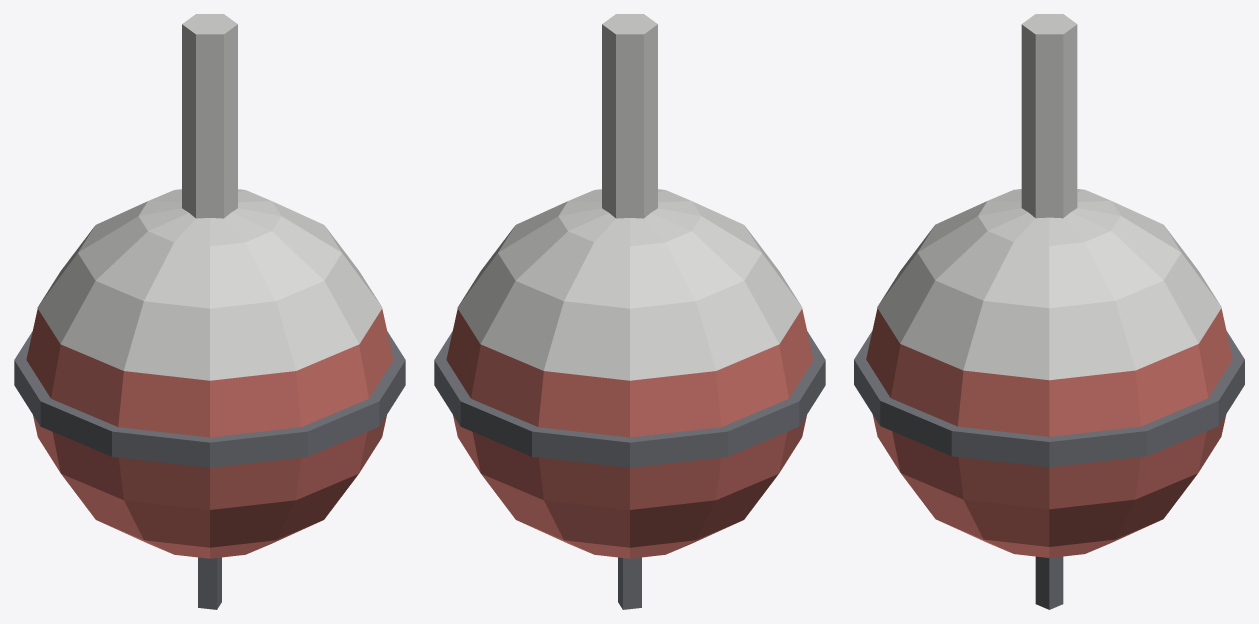
The model's file is Bobber.glb.
3 views of the same model, side by side, from view 1: azimuth 30°, elevation 25°; view 2: azimuth 150°, elevation 25°; view 3: azimuth 270°, elevation 25° (orthographic).
Parts seen in each view (by area): view 1: Bobber; view 2: Bobber; view 3: Bobber.
Part boxes in pixels (left/top/right/bottom): Bobber: left=14, top=14, right=405, bottom=609; Bobber: left=434, top=14, right=825, bottom=609; Bobber: left=854, top=14, right=1244, bottom=609.
Size of the model in its own units: 0.84 by 1.38 by 0.84.
